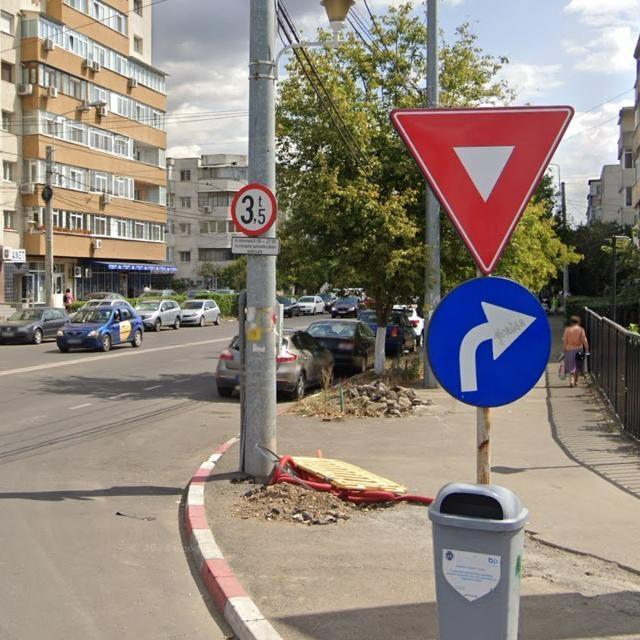prio_give_way: (390, 106, 573, 275)
